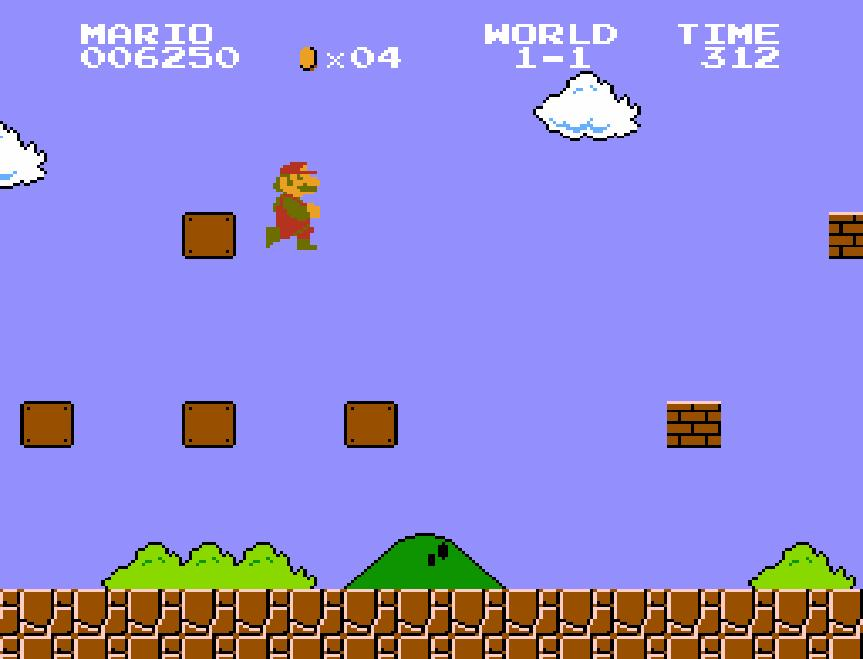big_mario: (264, 154, 322, 252)
